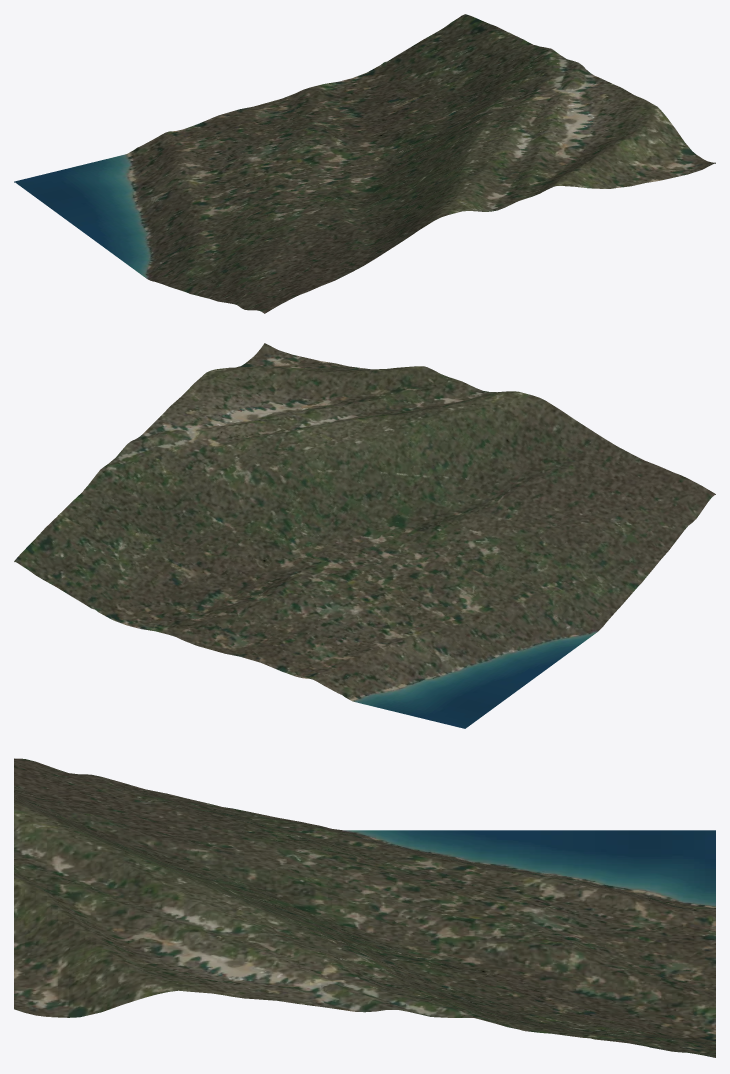
3 views of the same model, one above another, from view 1: azimuth 30°, elevation 25°; view 2: azimuth 150°, elevation 25°; view 3: azimuth 270°, elevation 25° (orthographic). The views are drawn at different scales.
Bounding box in the file's own units: 500 × 115 × 481.
Materials: 1 (1 with a texture image).
